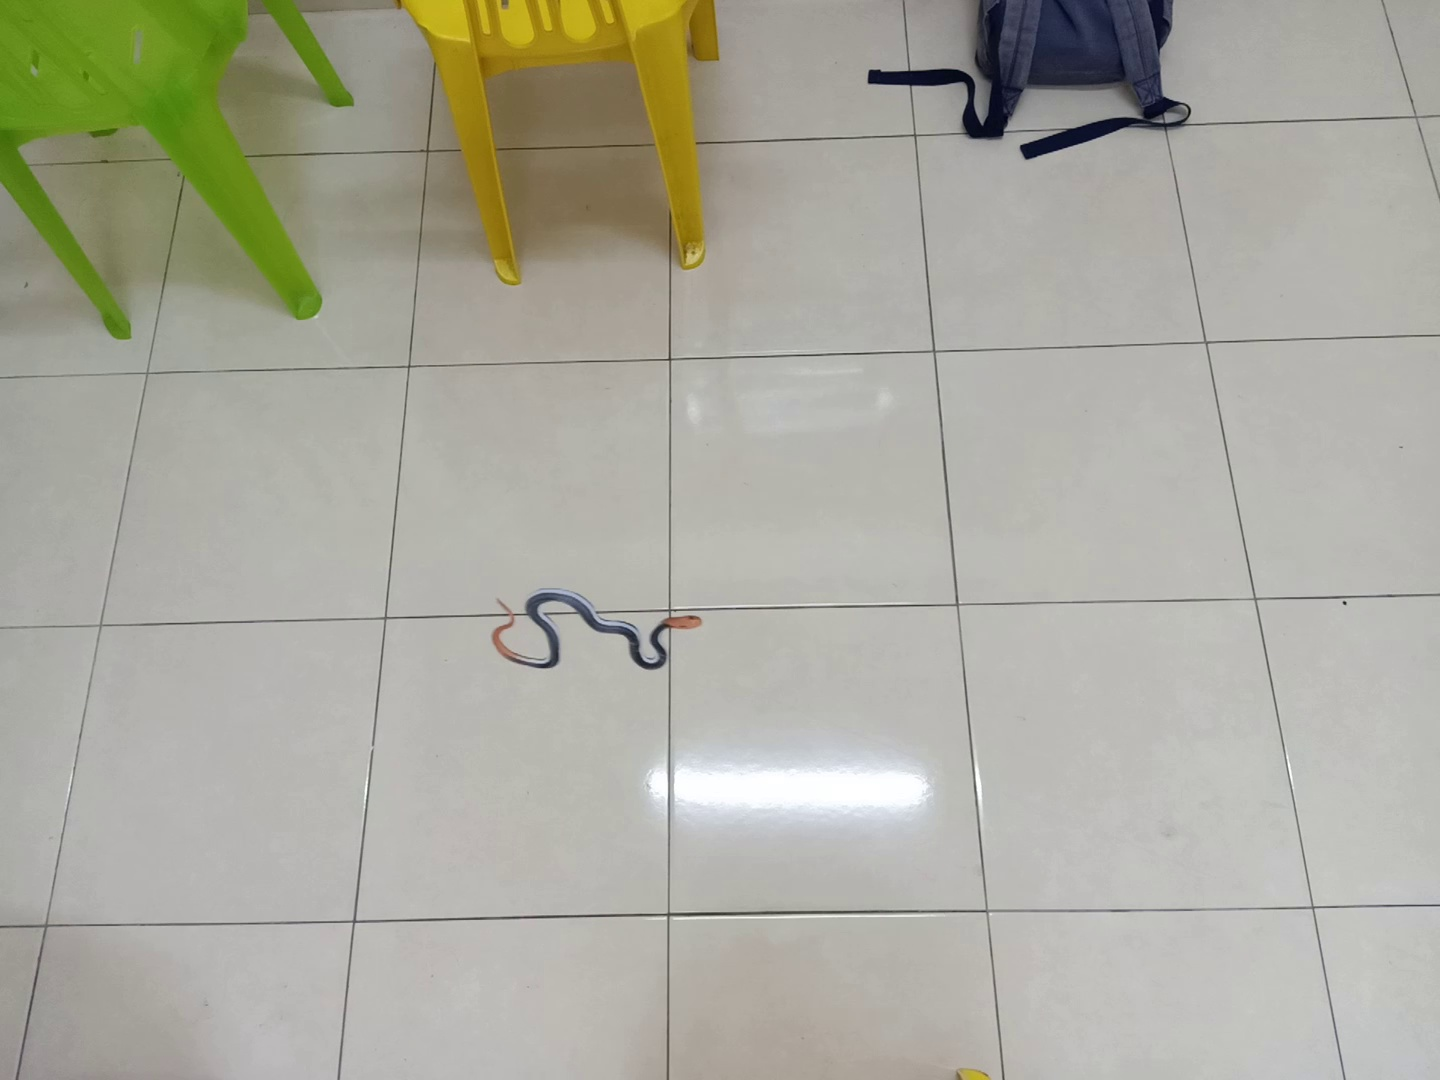snake: (482, 580, 711, 675)
